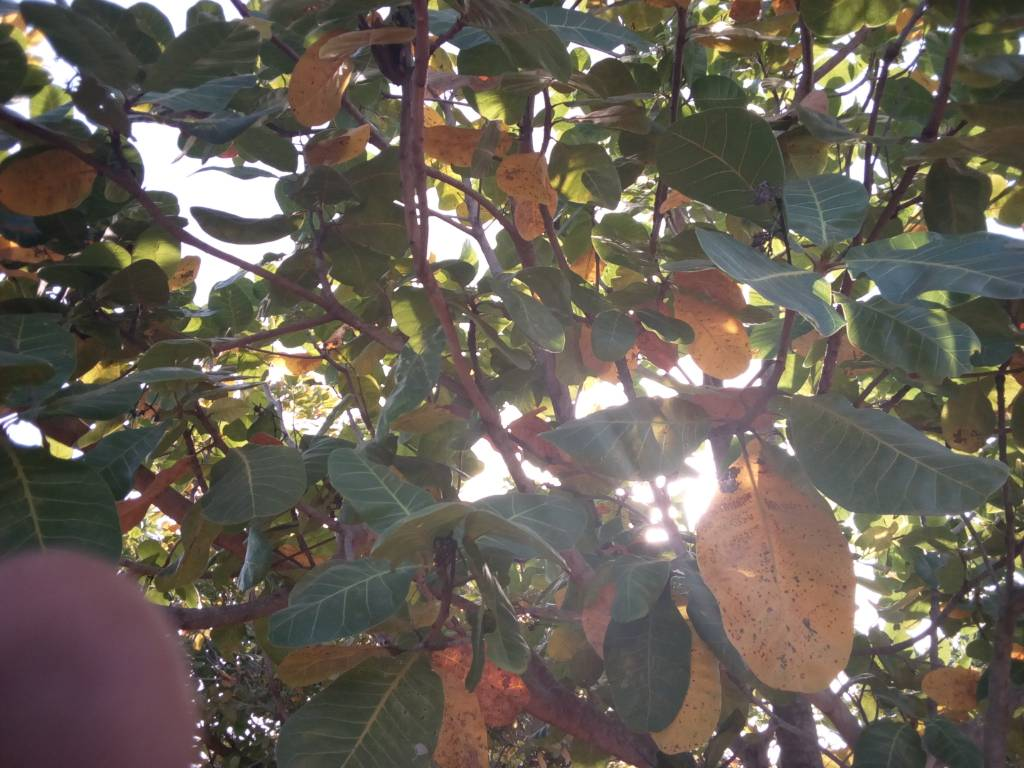Anthracnose: (694, 457, 859, 691), (433, 657, 522, 768), (1, 137, 96, 220), (672, 296, 752, 376), (492, 154, 558, 241)
